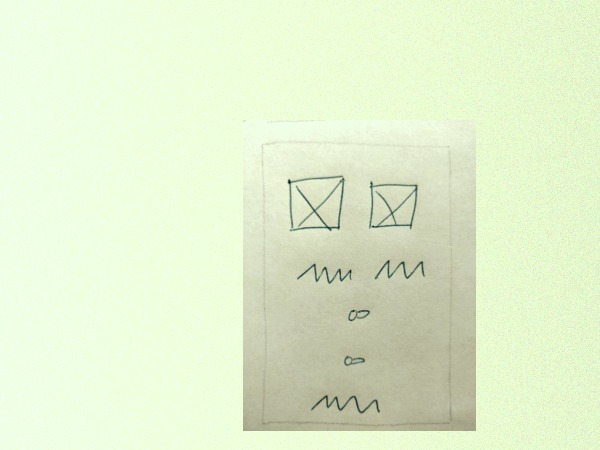image: (280, 173, 350, 233), (364, 176, 422, 234)
switch: (340, 303, 380, 325), (340, 351, 370, 369)
text: (305, 384, 386, 419), (291, 259, 359, 286), (370, 256, 430, 285)
